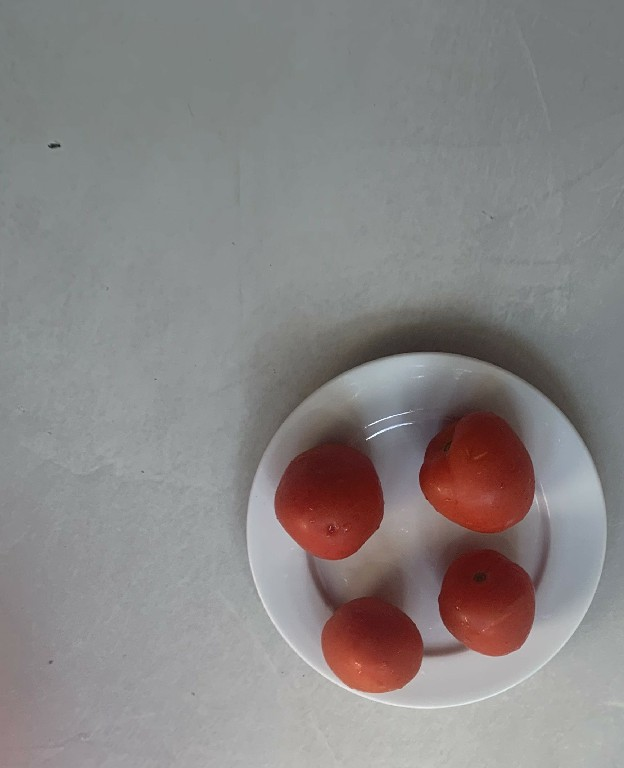OK: (414, 405, 538, 532), (272, 439, 388, 558), (436, 549, 534, 659), (321, 597, 424, 692)
